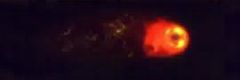keyhole: (170, 31, 182, 43)
